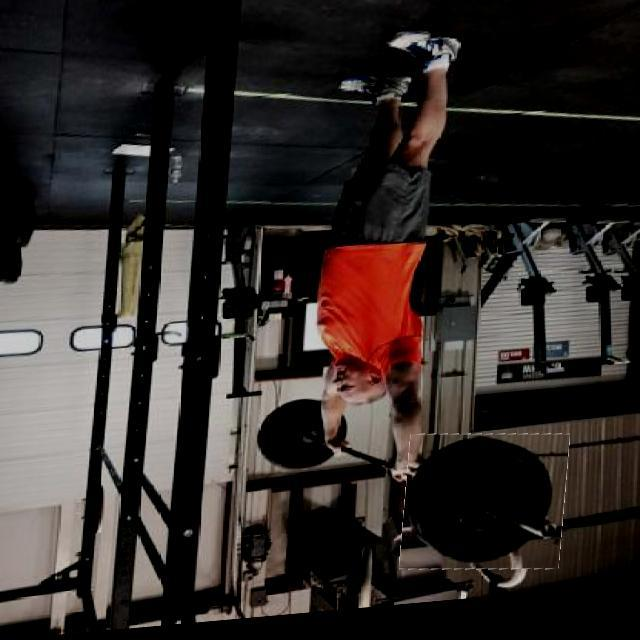barbell: (403, 435, 568, 587)
